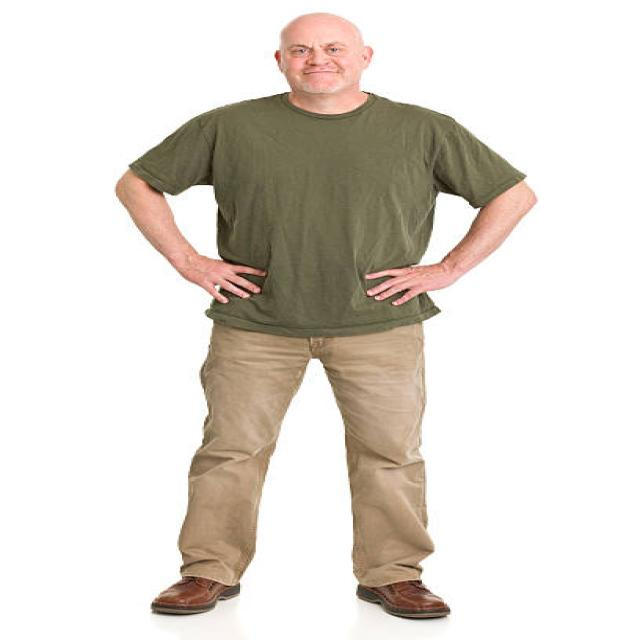Edited images: (108, 2, 544, 624)
